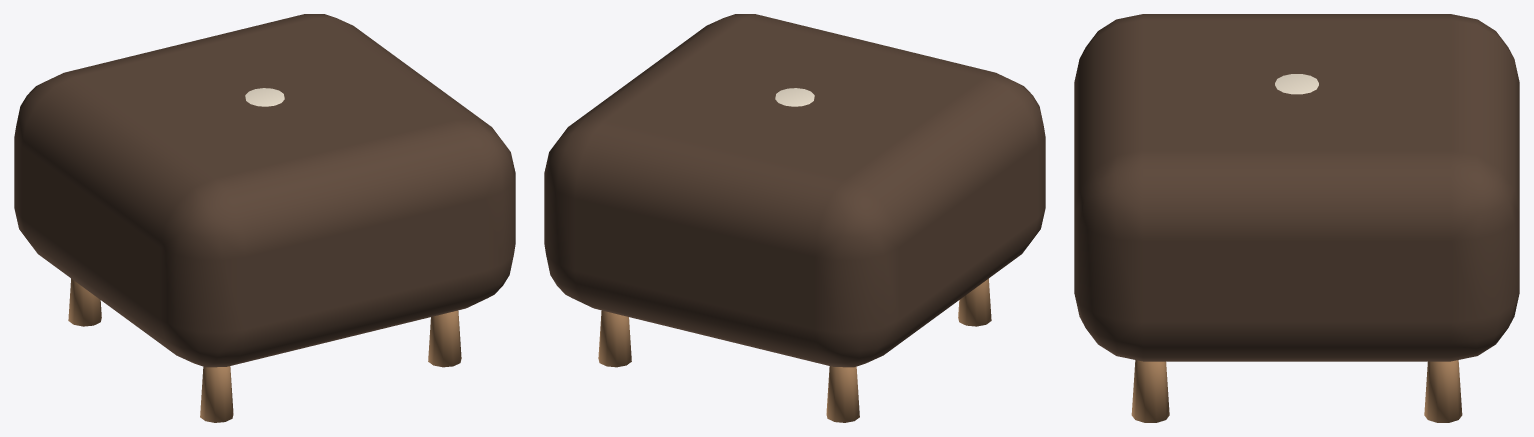
The model's file is ottoman.glb.
The picture shows the model from 3 angles, left to right: view 1: azimuth 30°, elevation 25°; view 2: azimuth 150°, elevation 25°; view 3: azimuth 270°, elevation 25°; orthographic projection. The views are drawn at different scales.
Visible parts, largest first — view 1: ottoman; view 2: ottoman; view 3: ottoman.
Part boxes in pixels (x1,y1,x2,y2): ottoman: [14, 14, 515, 422]; ottoman: [544, 14, 1045, 422]; ottoman: [1074, 14, 1519, 422].
Size of the model in its own units: 0.6089 by 0.408 by 0.6089.
